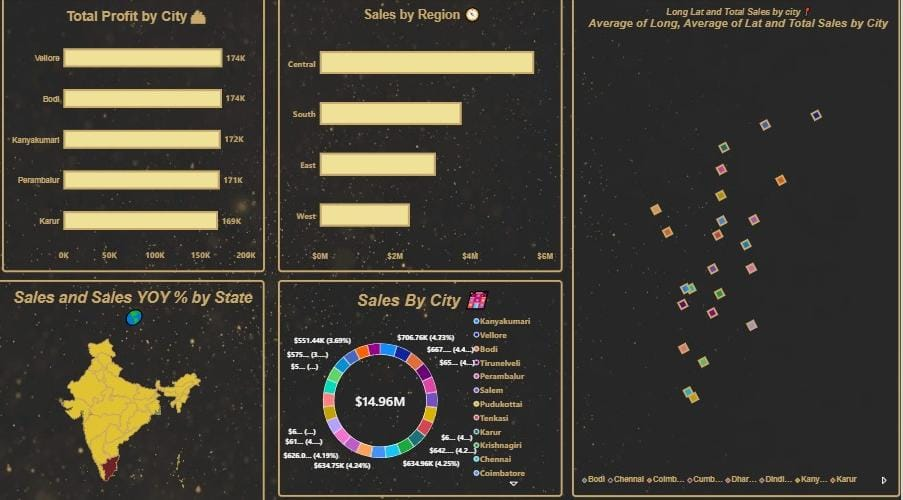

This screenshot's page, from the dashboard's own definition file:
{"tool":"powerbi","page":{"name":"City Analysis","canvas":[1920,1080],"ordinal":3},"visuals":[{"type":"shapeMap","title":" Sales and Sales YOY %  by State  🌎","fields":{"Category":["Dim_Location.Supermarket_ Sales.State"],"Value":["Sum(Fact_Sales.Sales)"]},"box":[0,602.2,569.4,478.7],"z":0},{"type":"clusteredBarChart","title":"Total Profit by City  🏙","fields":{"Category":["Dim_Location.City"],"Y":["DAX.Total Profit"]},"box":[10.1,0,559.4,584.6],"z":1000},{"type":"scatterChart","title":" Long Lat and Total Sales by city  📍","fields":{"Series":["CityCoords.City"],"Size":["DAX.Total Sales"],"X":["Avg(CityCoords.Long)"],"Y":["Avg(CityCoords.Lat)"]},"box":[1222,0,698,1063.3],"z":2000},{"type":"clusteredBarChart","title":"Sales by Region  🧭","fields":{"Category":["Dim_Location.Region"],"Y":["Sum(Fact_Sales.Sales)"]},"box":[597.2,0,604.7,584.6],"z":3000},{"type":"donutChart","title":" Sales By City  🏩","fields":{"Category":["Dim_Location.City","Dim_Location.State"],"Y":["Sum(Fact_Sales.Sales)"]},"box":[597.2,602.2,604.7,461.1],"z":4000}]}

Visuals, with their boxes in screenshot pixels (x1, y1, x2, y2), scaled from the page's 1920x1080 canvas onto the 903x500 screenshot:
" Sales and Sales YOY %  by State  🌎" shapeMap: box=[0, 279, 268, 499]
"Total Profit by City  🏙" clusteredBarChart: box=[5, 0, 268, 271]
" Long Lat and Total Sales by city  📍" scatterChart: box=[575, 0, 902, 492]
"Sales by Region  🧭" clusteredBarChart: box=[281, 0, 565, 271]
" Sales By City  🏩" donutChart: box=[281, 279, 565, 492]
